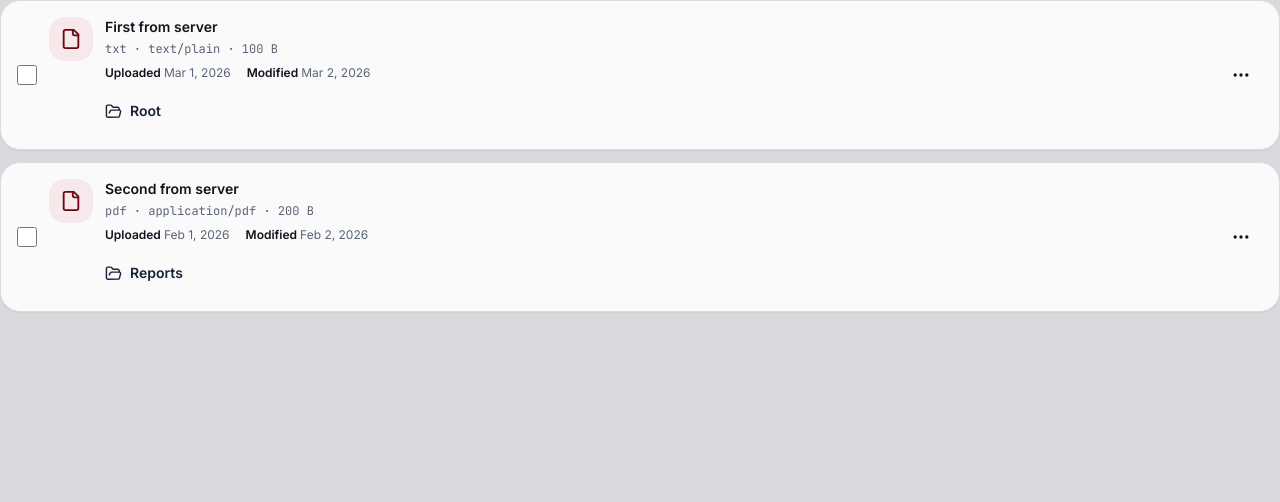
SearchResultsList › preserves server order, renders DTO metadata, folder destinations, and reused file actions
Expected: the list item that starts with "First from server" is shown, [105,17,218,37]
Expected: the list item that starts with "Second from server" is shown, [105,179,239,199]
Click the button named "Actions for First from server" at (1241, 75), box [1219,53,1263,97]
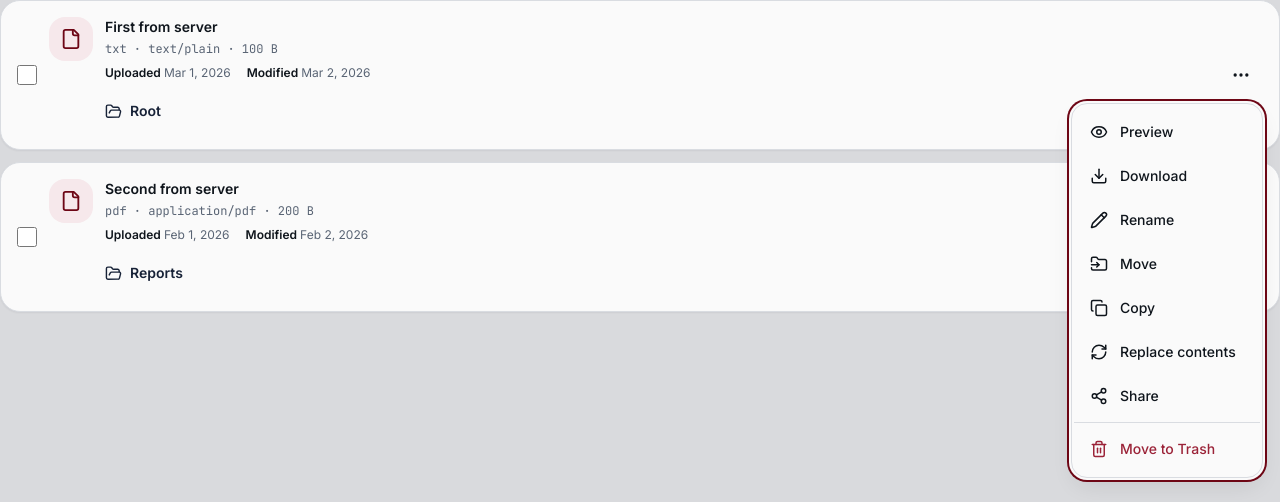
Expected: the menu item "Preview" is shown, [1090,123,1173,141]
Expected: the menu item "Download" is shown, [1090,167,1187,185]
Expected: the menu item "Rename" is shown, [1090,211,1174,229]
